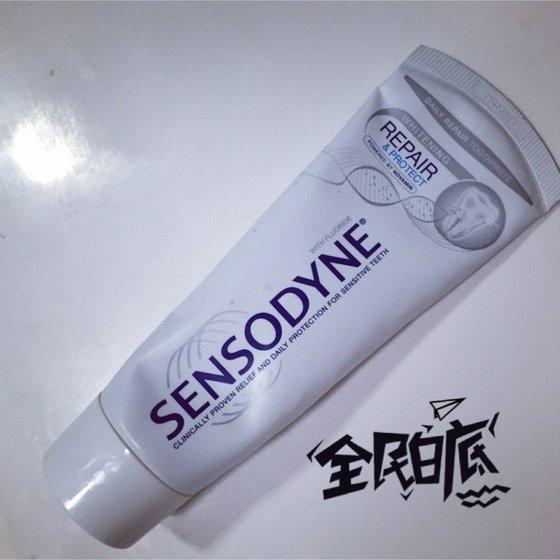toothpaste: (40, 45, 556, 525)
